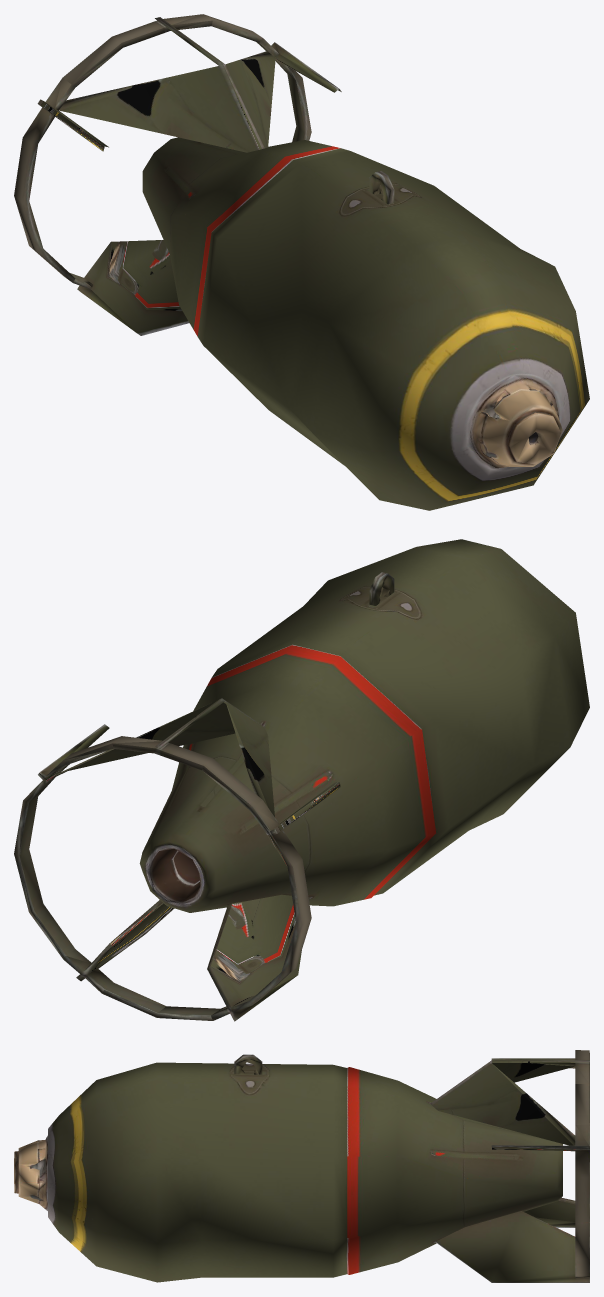
The model's file is cooper_single.glb.
3 views of the same model, one above another, from view 1: azimuth 30°, elevation 25°; view 2: azimuth 150°, elevation 25°; view 3: azimuth 270°, elevation 25° (orthographic). The views are drawn at different scales.
Visible parts, largest first — view 1: tripo_node_c3b0f5f6-9a3b-4111-ac07-eaa13; view 2: tripo_node_c3b0f5f6-9a3b-4111-ac07-eaa13; view 3: tripo_node_c3b0f5f6-9a3b-4111-ac07-eaa13.
Part boxes in pixels (bbox=[...]): tripo_node_c3b0f5f6-9a3b-4111-ac07-eaa13: bbox=[14, 14, 589, 510]; tripo_node_c3b0f5f6-9a3b-4111-ac07-eaa13: bbox=[14, 539, 589, 1021]; tripo_node_c3b0f5f6-9a3b-4111-ac07-eaa13: bbox=[14, 1050, 589, 1282].
Size of the model in its own units: 0.4403 by 0.407 by 0.9981.
1 material, 1 textured.
